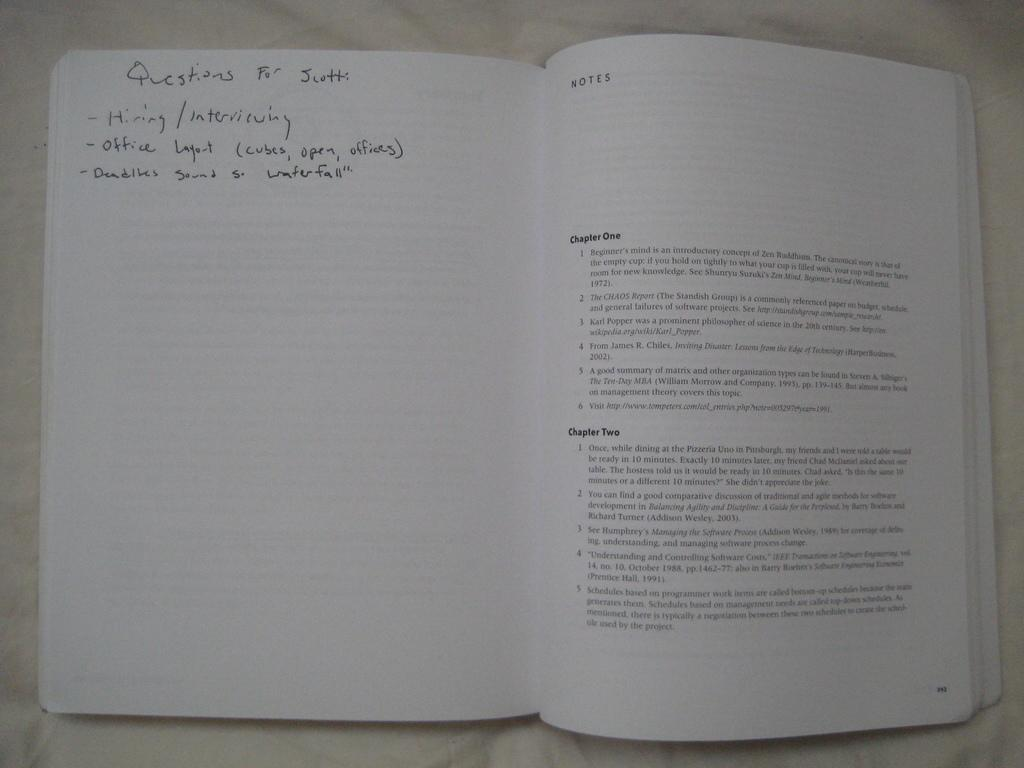book: (45, 5, 999, 744)
